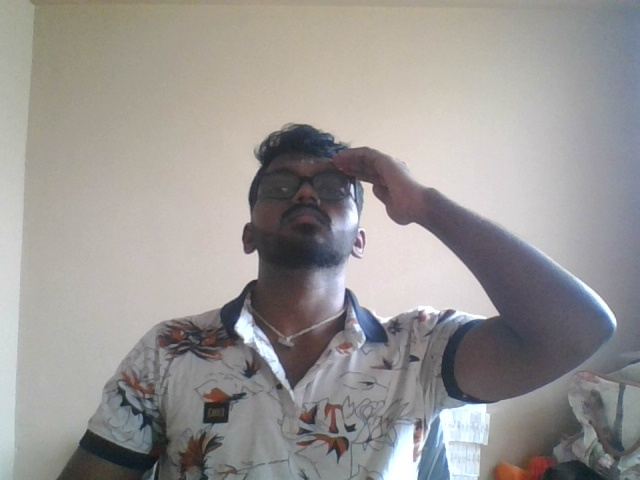Hello: (320, 132, 431, 267)
